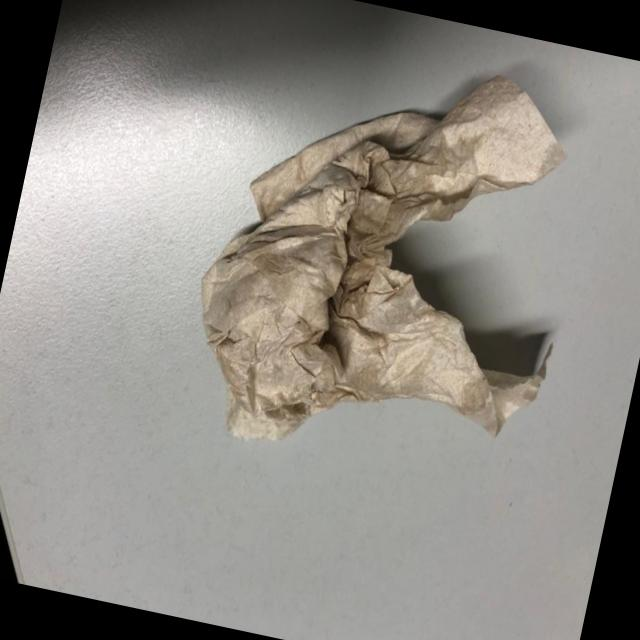organic waste: (169, 30, 602, 505)
